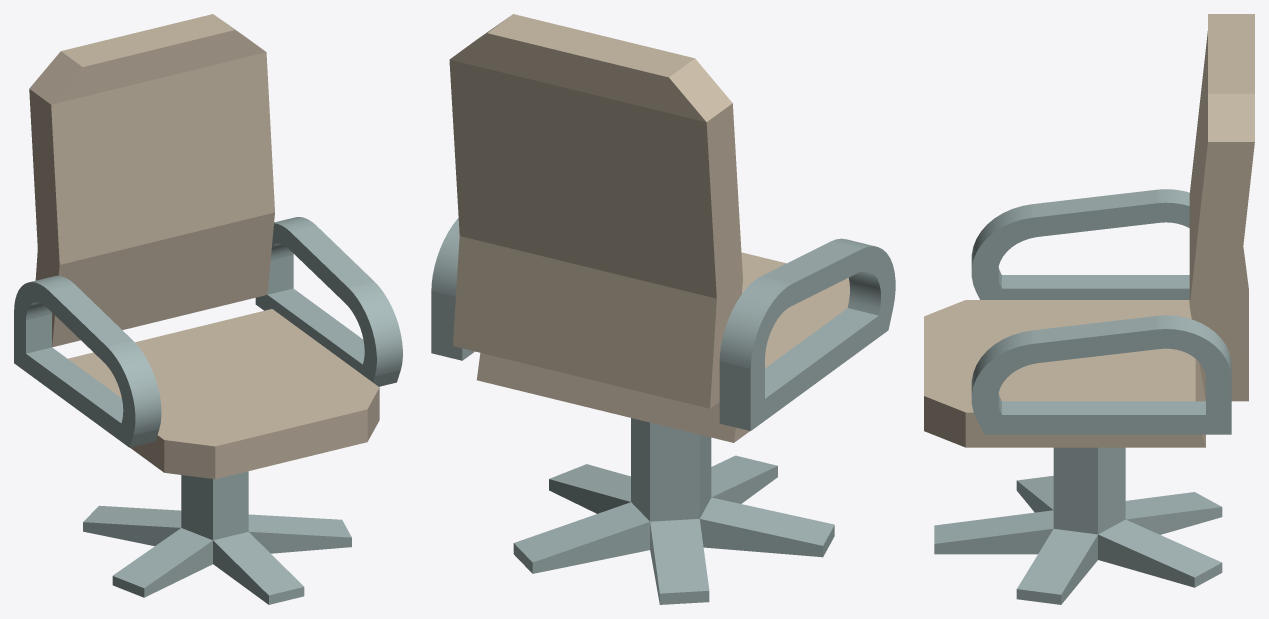
Rendered from office_chair.glb.
3 views of the same model, side by side, from view 1: azimuth 30°, elevation 25°; view 2: azimuth 150°, elevation 25°; view 3: azimuth 270°, elevation 25° (orthographic). The views are drawn at different scales.
Parts seen in each view (by area): view 1: chair, chairDesk(Clone); view 2: chair, chairDesk(Clone); view 3: chair, chairDesk(Clone).
Part boxes in pixels (x1,y1,x2,y2): chair: (14, 14, 402, 479); chairDesk(Clone): (83, 471, 351, 604); chair: (431, 14, 895, 442); chairDesk(Clone): (513, 418, 834, 604); chair: (924, 14, 1254, 447); chairDesk(Clone): (934, 447, 1222, 604).
Bounding box in the file's own units: 0.58 × 0.95 × 0.58.
